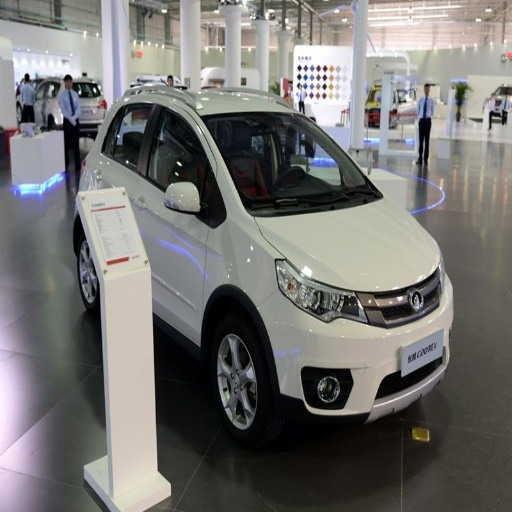front_bumper: (262, 273, 453, 417)
front_right_door: (139, 101, 221, 340)
front_right_light: (275, 260, 368, 321)
